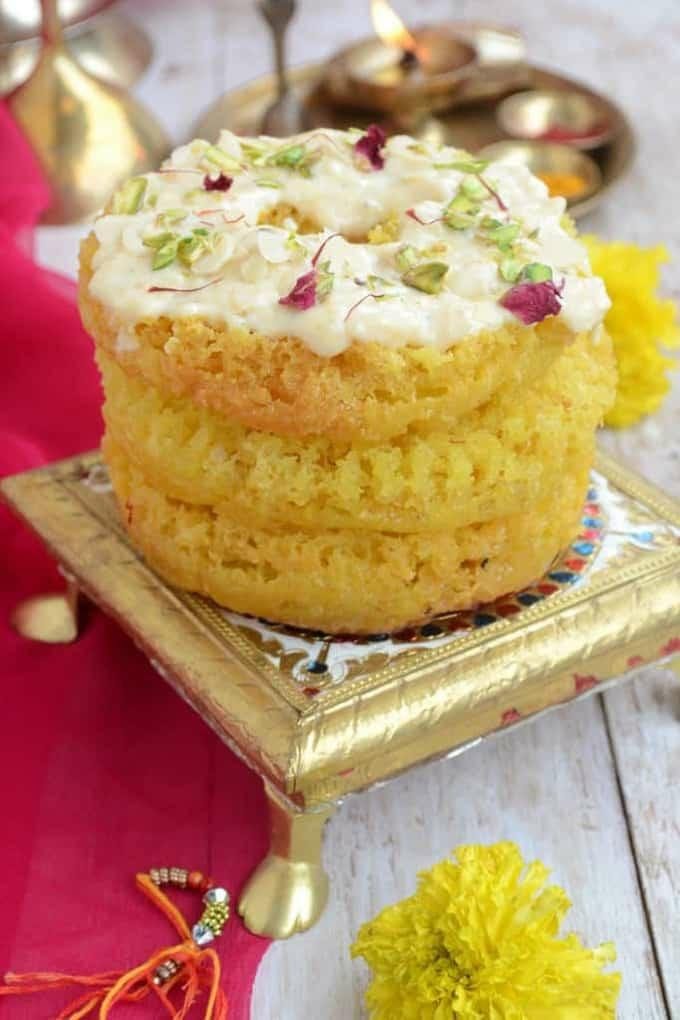Ghevar: (88, 125, 617, 637)
